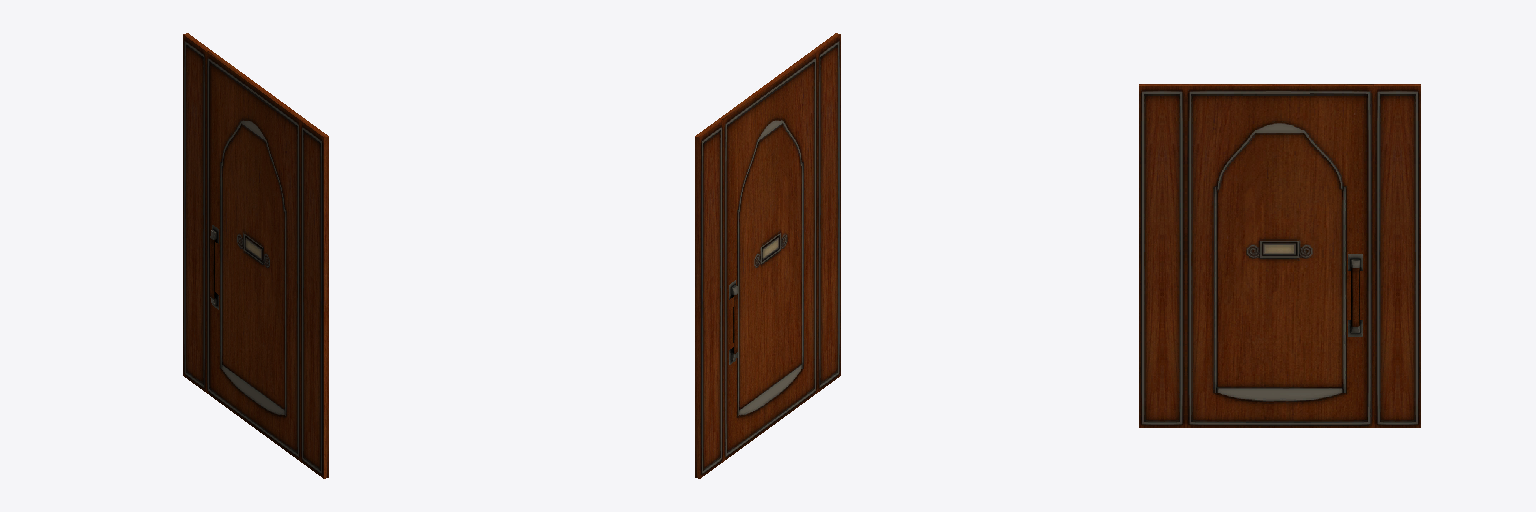
3 views of the same model, side by side, from view 1: azimuth 30°, elevation 25°; view 2: azimuth 150°, elevation 25°; view 3: azimuth 270°, elevation 25° (orthographic).
Parts seen in each view (by area): view 1: High_Rent_Door; view 2: High_Rent_Door; view 3: High_Rent_Door.
Boxes of the visible parts, box(x1,y1,x2,y2) form: High_Rent_Door: box(183, 33, 328, 478); High_Rent_Door: box(695, 33, 840, 478); High_Rent_Door: box(1139, 84, 1420, 427).
Bounding box in the file's own units: 10.85 × 256 × 192.
1 materials, 1 textured.